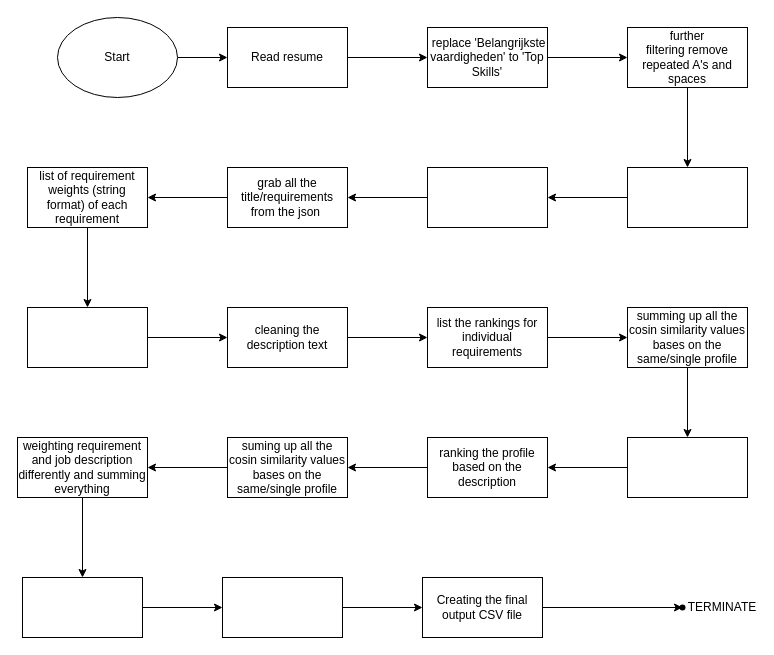
The diagram is 774 pixels wide and 655 high, and some of its shapes have lost their labels. Each missing label, with the centre of its shape:
"creating new column 'processed_text' for filtered resumes/profile" goes at (687,197).
"data frame index number to applicant name" goes at (282,607).
"reading the job description from json file" goes at (487,197).
"replace string format to integer format for requirement weight" goes at (87,337).
"sorting out profiles scores based on hight to low" goes at (687,467).
"sorting the values for ranking" goes at (82,607).
